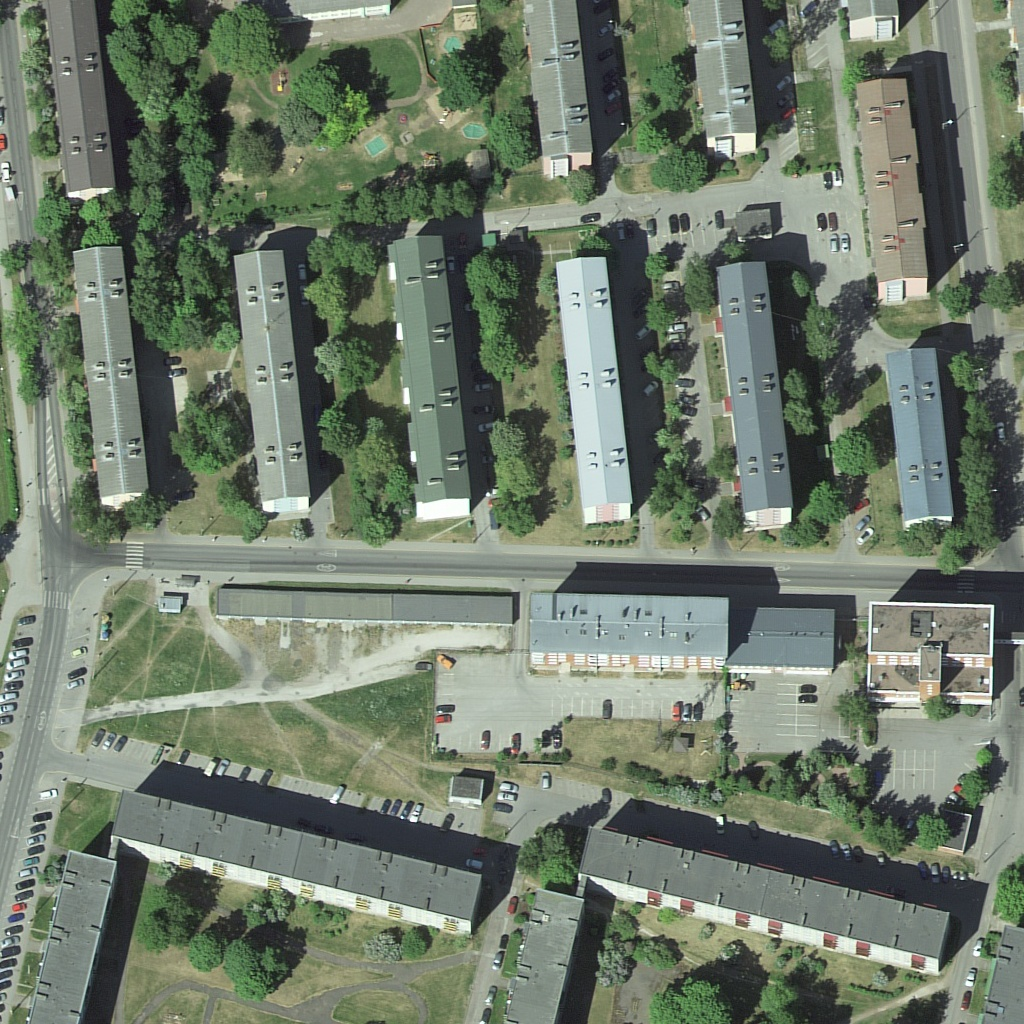building: (111, 790, 488, 939), (576, 826, 951, 974), (385, 231, 477, 522), (714, 261, 804, 524), (557, 253, 642, 523), (77, 244, 158, 507), (233, 253, 314, 512), (850, 73, 931, 304), (526, 588, 728, 677), (31, 848, 123, 1020), (868, 599, 996, 710), (46, 7, 120, 197), (518, 0, 599, 173), (214, 584, 516, 627), (680, 1, 762, 156), (887, 347, 951, 528), (500, 887, 584, 1019), (731, 599, 839, 679)
